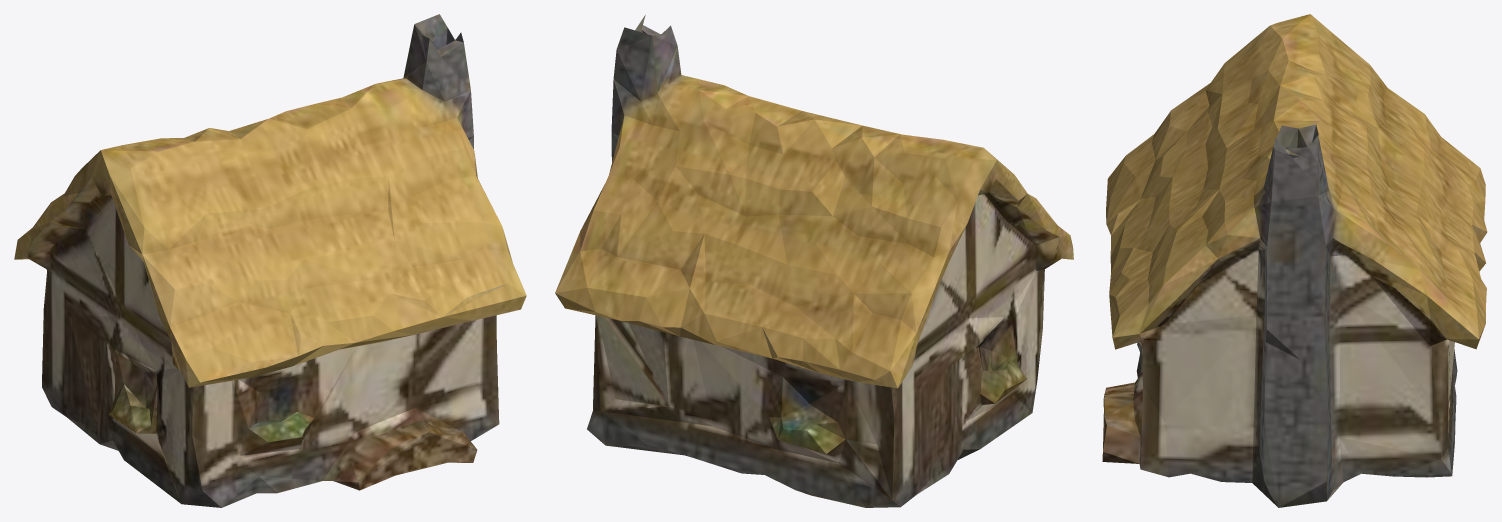
The model's file is house_peasant_a_lod3.glb.
3 renders of one model, left to right at view 1: azimuth 30°, elevation 25°; view 2: azimuth 150°, elevation 25°; view 3: azimuth 270°, elevation 25°, orthographic. The views are drawn at different scales.
Parts seen in each view (by area): view 1: lod; view 2: lod; view 3: lod.
Boxes of the visible parts, x1,y1,x2,y2 form: lod: (14,14,526,507); lod: (555,15,1073,507); lod: (1102,14,1487,507).
Size of the model in its own units: 1.84 by 1.72 by 1.64.
Materials: 1 (1 with a texture image).
